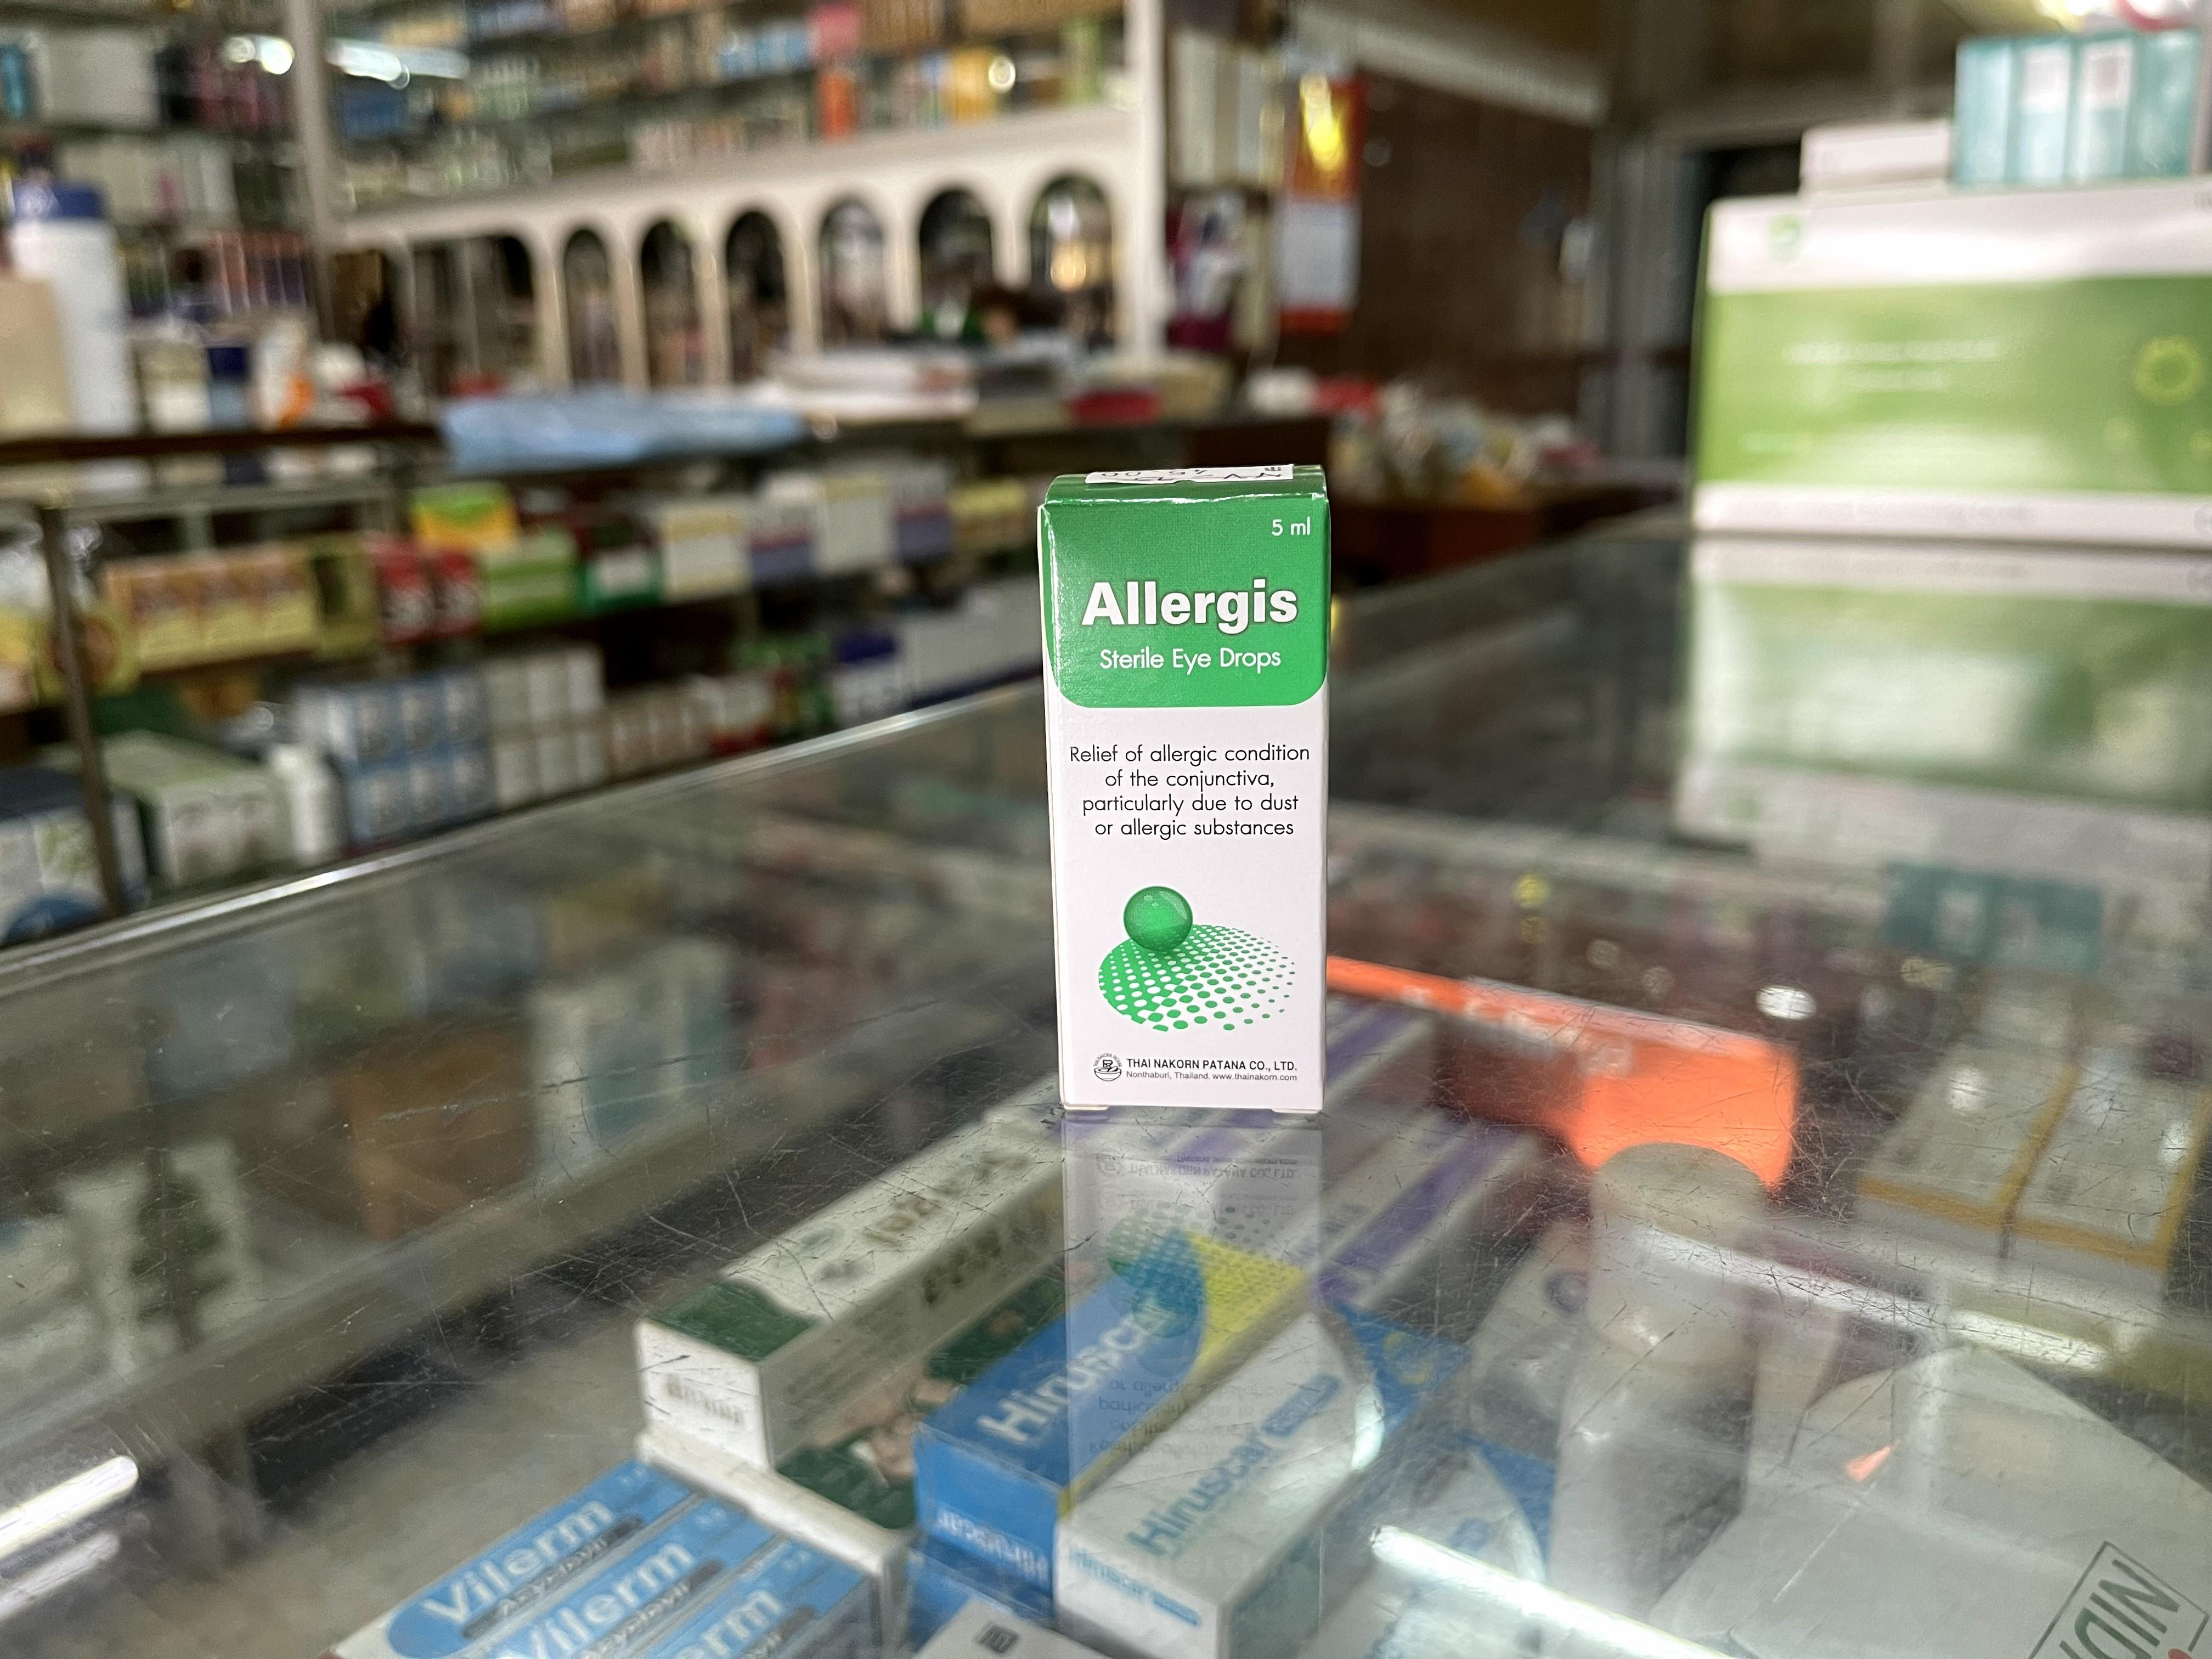Allergis: (1035, 460, 1331, 1119)
